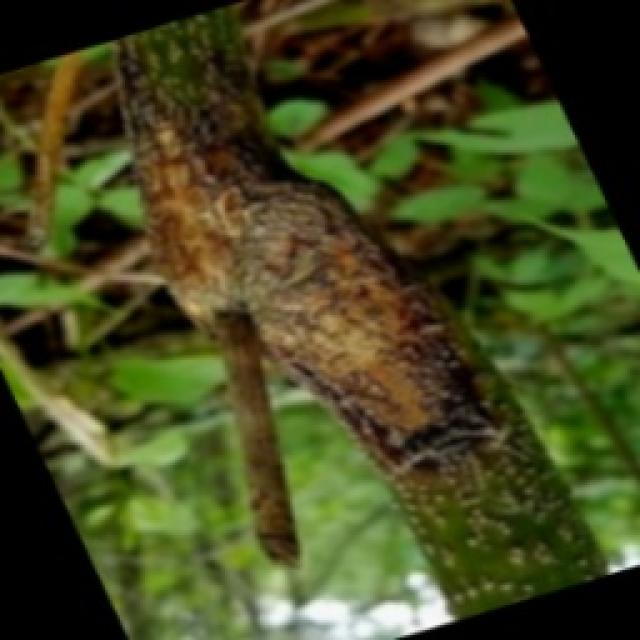Golden_canker: (90, 37, 600, 640)
